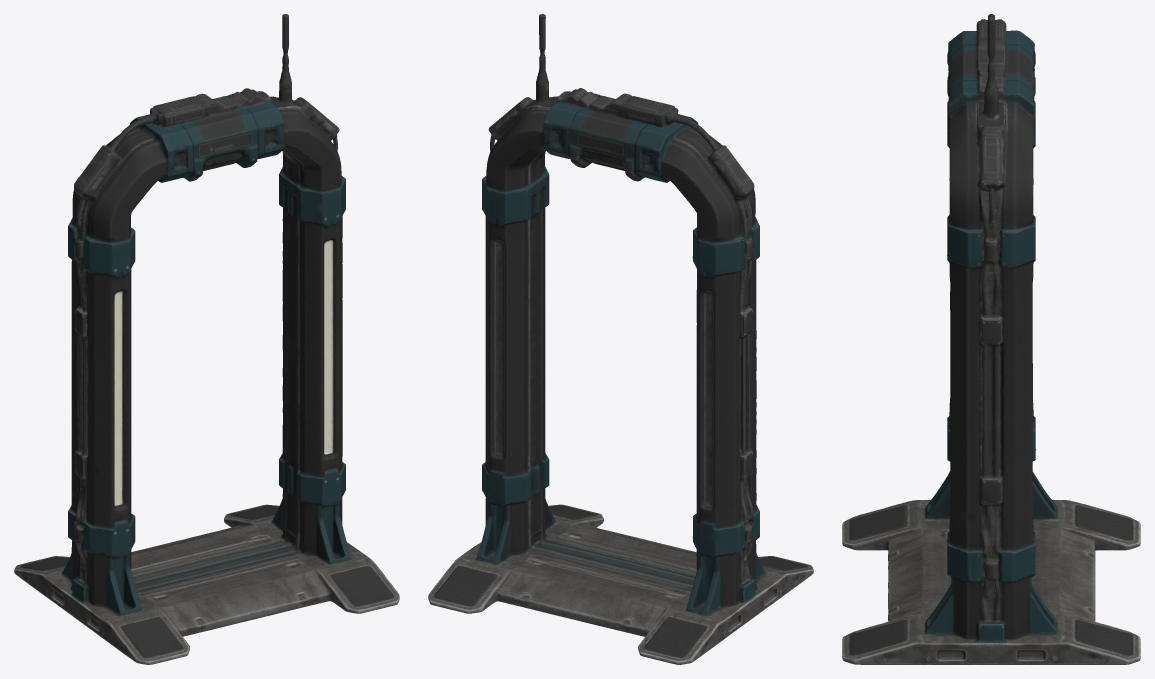
The model's file is Meshy_AI_Quantum_Gate_1023105949_texture.glb.
3 views of the same model, side by side, from view 1: azimuth 30°, elevation 25°; view 2: azimuth 150°, elevation 25°; view 3: azimuth 270°, elevation 25° (orthographic). The views are drawn at different scales.
Bounding box in the file's own units: 0.9512 × 1.9 × 0.8311.
1 material, 1 textured.
